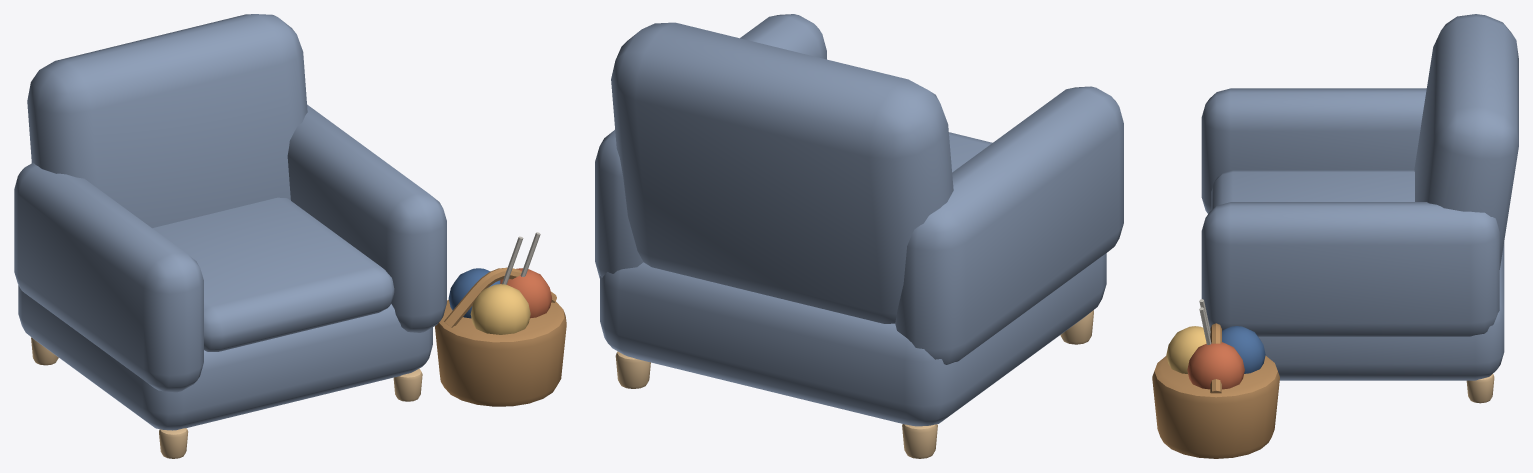
File: knitting_chair.glb
3 views of the same model, side by side, from view 1: azimuth 30°, elevation 25°; view 2: azimuth 150°, elevation 25°; view 3: azimuth 270°, elevation 25° (orthographic). The views are drawn at different scales.
Visible parts, largest first — view 1: cushion, crate, poster_c, wood, food_c, sign_blue; view 2: cushion, wood; view 3: cushion, crate, food_c, sign_blue, poster_c, wood.
Part boxes in pixels (x1,y1,x2,y2): cushion: (14, 14, 446, 430); crate: (435, 267, 566, 406); poster_c: (470, 284, 530, 334); wood: (31, 337, 422, 458); food_c: (500, 268, 551, 318); sign_blue: (448, 268, 500, 318); cushion: (595, 14, 1123, 426); wood: (615, 310, 1093, 458); cushion: (1201, 14, 1518, 380); crate: (1152, 323, 1279, 458); food_c: (1187, 342, 1244, 389); sign_blue: (1222, 326, 1265, 373); poster_c: (1166, 326, 1206, 373); wood: (1466, 374, 1494, 403).
Bounding box in the file's own units: 0.9381 × 0.6492 × 0.7631.
